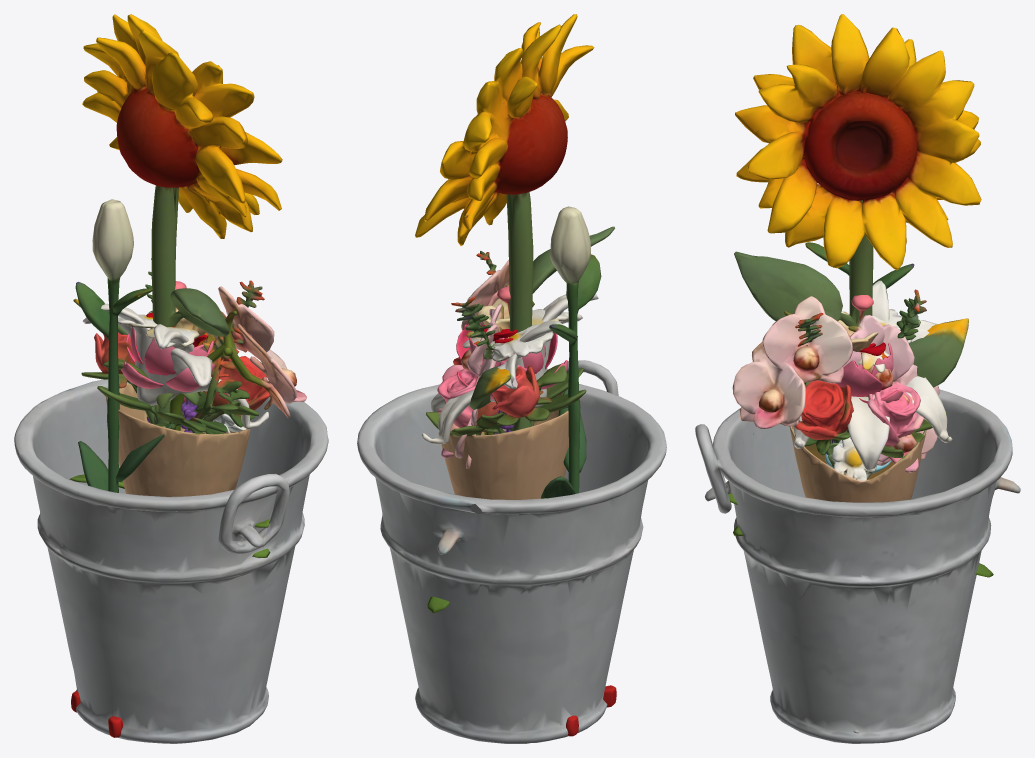
Rendered from fleuriste.glb.
The picture shows the model from 3 angles, left to right: view 1: azimuth 30°, elevation 25°; view 2: azimuth 150°, elevation 25°; view 3: azimuth 270°, elevation 25°; orthographic projection. The views are drawn at different scales.
Parts seen in each view (by area): view 1: seau-a-fleurs, tournesol, bouquet-emballe, lys, orchidee-en-pot, pivoine; view 2: seau-a-fleurs, tournesol, bouquet-emballe, lys, orchidee-en-pot, pivoine; view 3: seau-a-fleurs, tournesol, bouquet-emballe, orchidee-en-pot, lys, pivoine.
Boxes of the visible parts, bbox=[...] form: seau-a-fleurs: bbox=[14, 379, 328, 743]; tournesol: bbox=[73, 14, 282, 424]; bouquet-emballe: bbox=[81, 258, 269, 496]; lys: bbox=[75, 199, 268, 492]; orchidee-en-pot: bbox=[69, 286, 306, 558]; pivoine: bbox=[121, 327, 225, 433]; seau-a-fleurs: bbox=[357, 360, 666, 743]; tournesol: bbox=[415, 14, 614, 430]; bouquet-emballe: bbox=[426, 251, 586, 499]; lys: bbox=[421, 206, 601, 498]; orchidee-en-pot: bbox=[427, 260, 534, 613]; pivoine: bbox=[456, 323, 568, 433]; seau-a-fleurs: bbox=[695, 389, 1020, 743]; tournesol: bbox=[734, 14, 981, 387]; bouquet-emballe: bbox=[780, 289, 946, 502]; orchidee-en-pot: bbox=[728, 296, 993, 577]; lys: bbox=[793, 242, 952, 469]; pivoine: bbox=[828, 343, 903, 467].
Bounding box in the file's own units: 0.3291 × 0.7996 × 0.35.
Materials: 3 (3 with a texture image).
